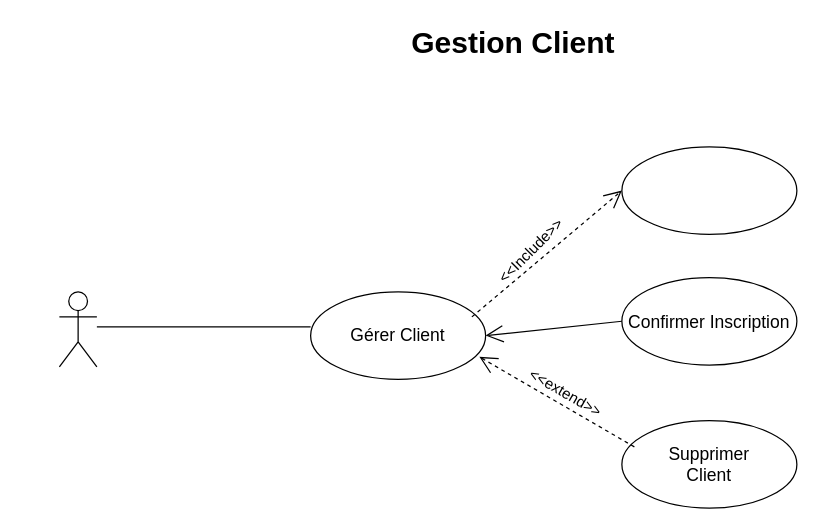
The diagram is 819 pixels wide and 530 high, and some of its shapes have lost their labels. The shapes that lost their labels are listed below. From the top down, each one's centre as x and y in pixels, then its label:
At pixel 709 190: "S'authentifier".
At pixel 77 329: "Administrateur".
